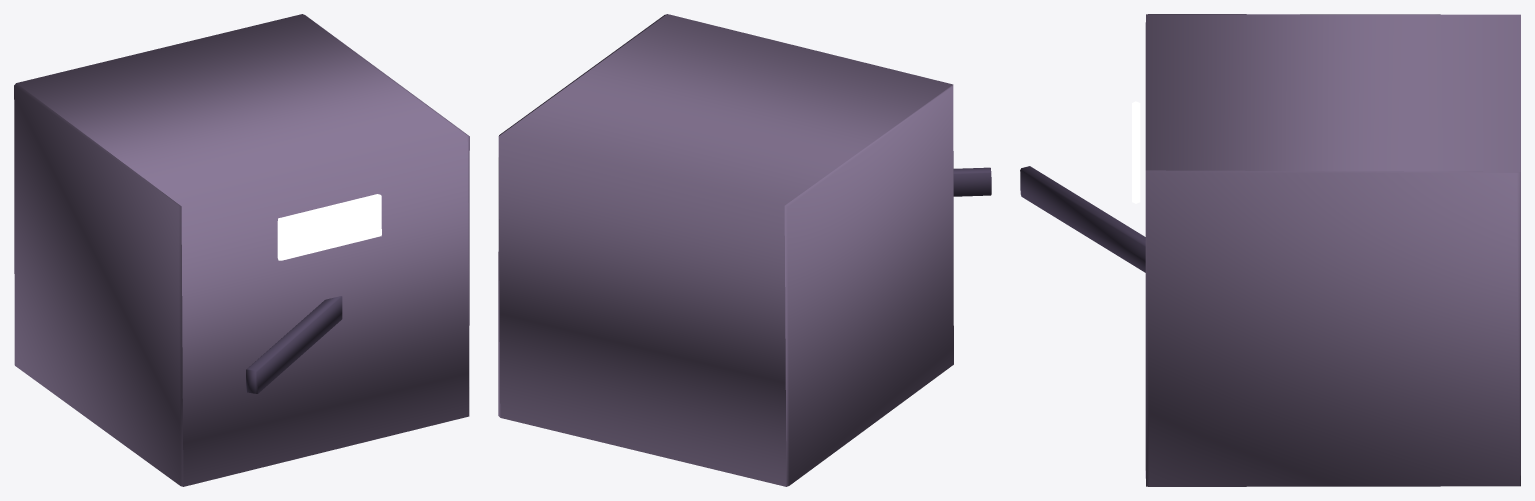
File: SM_Labor_Crate_LOD2.fbx
3 views of the same model, side by side, from view 1: azimuth 30°, elevation 25°; view 2: azimuth 150°, elevation 25°; view 3: azimuth 270°, elevation 25° (orthographic). The views are drawn at different scales.
Parts seen in each view (by area): view 1: SM_Labor_Crate_LOD2; view 2: SM_Labor_Crate_LOD2; view 3: SM_Labor_Crate_LOD2.
Part boxes in pixels (x1,y1,x2,y2): SM_Labor_Crate_LOD2: (14, 14, 469, 486); SM_Labor_Crate_LOD2: (498, 14, 991, 486); SM_Labor_Crate_LOD2: (1020, 14, 1520, 486).
Size of the model in its own units: 1.39 by 1.29 by 1.85.
